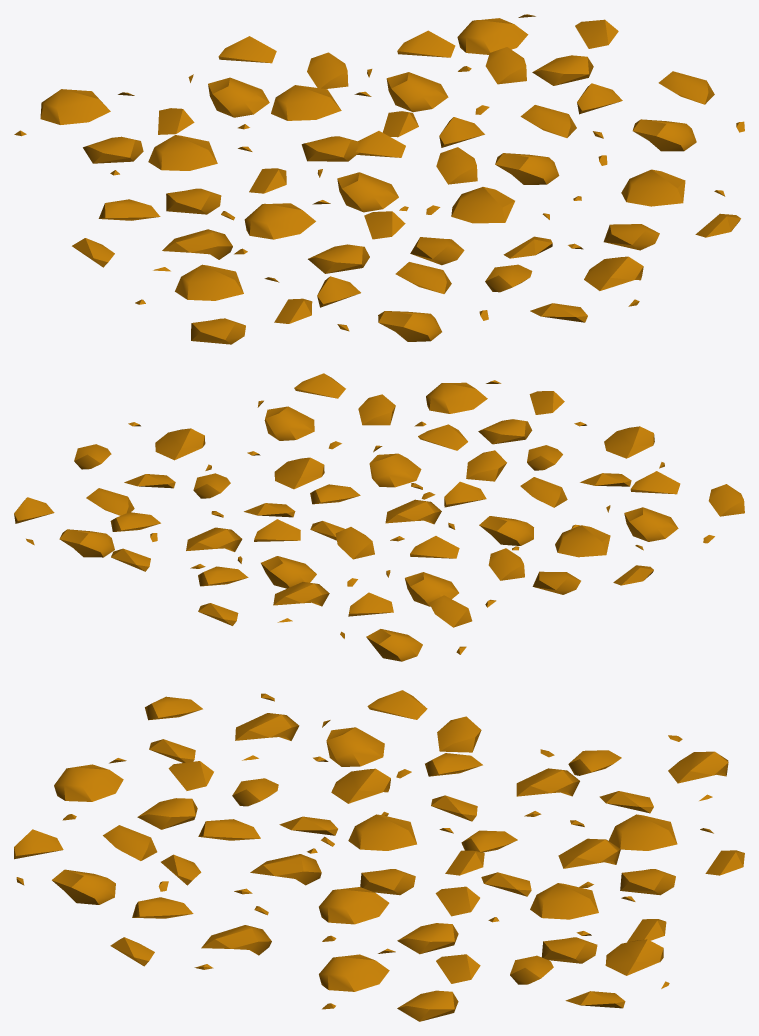
File: CopperDeposit.fbx
3 views of the same model, one above another, from view 1: azimuth 30°, elevation 25°; view 2: azimuth 150°, elevation 25°; view 3: azimuth 270°, elevation 25° (orthographic). The views are drawn at different scales.
Visible parts, largest first — view 1: CopperDeposit; view 2: CopperDeposit; view 3: CopperDeposit.
Boxes of the visible parts, x1,y1,x2,y2 form: CopperDeposit: (14,14,744,344); CopperDeposit: (14,373,744,661); CopperDeposit: (14,690,744,1021).
Bounding box in the file's own units: 168 × 5.76 × 161.
